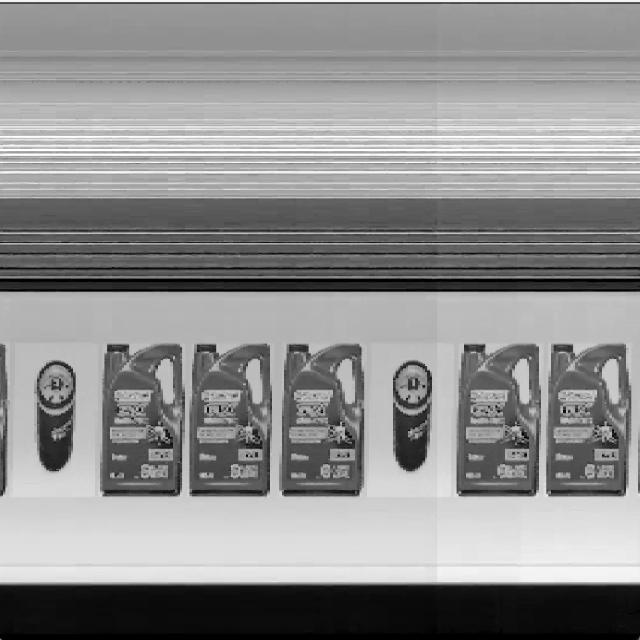motor_oil: (545, 339, 635, 500), (188, 335, 276, 499), (100, 337, 186, 502), (280, 338, 366, 500), (456, 339, 540, 500)
oil_filter: (389, 357, 435, 482), (32, 357, 80, 473)
